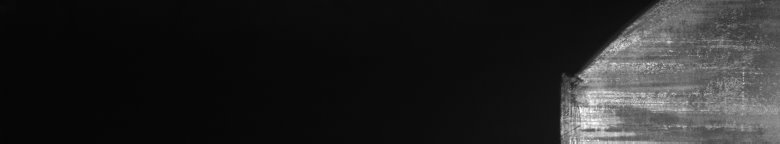kb: (596, 0, 763, 144)
